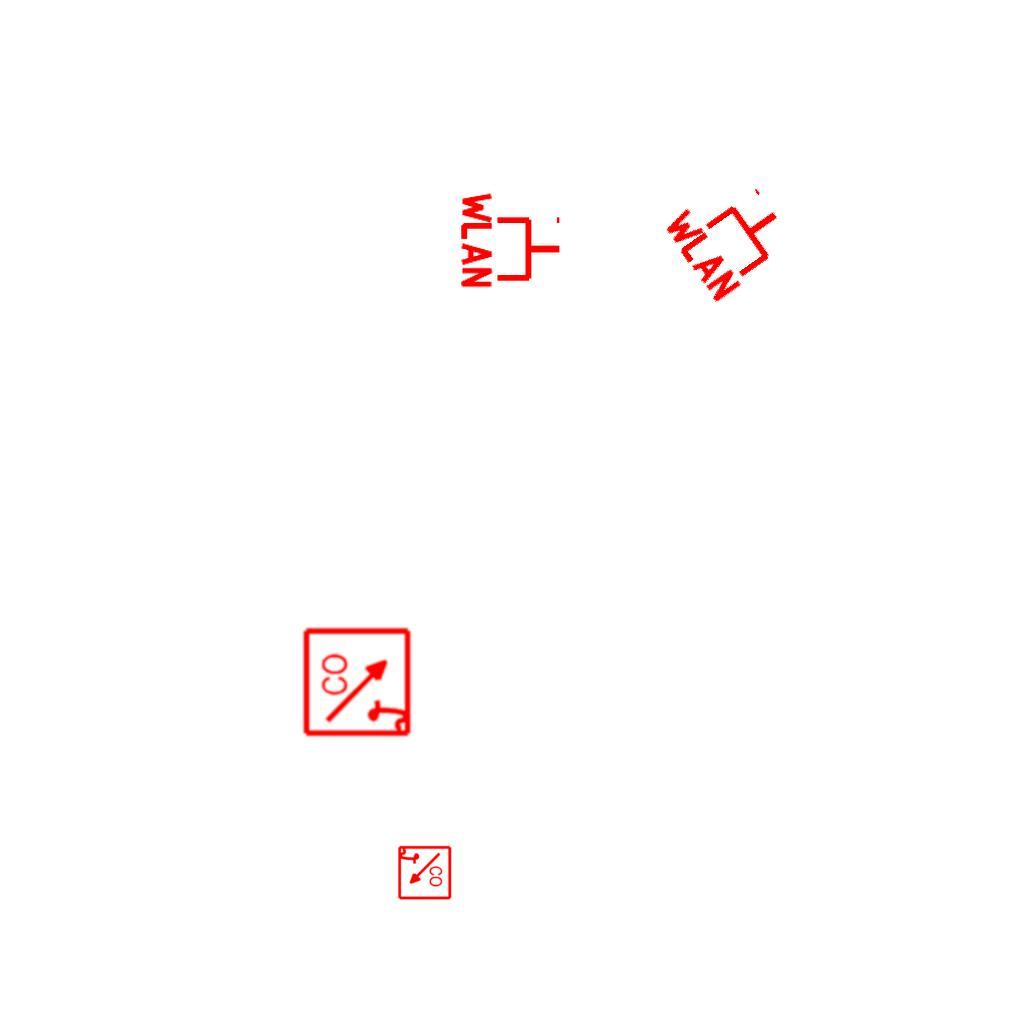ROA_Rauchmelder_optisch_mit_Signalgeber_(Sockelsirene): (302, 625, 415, 738), (396, 845, 452, 901)
WLAN: (657, 162, 804, 308), (459, 188, 564, 292)
